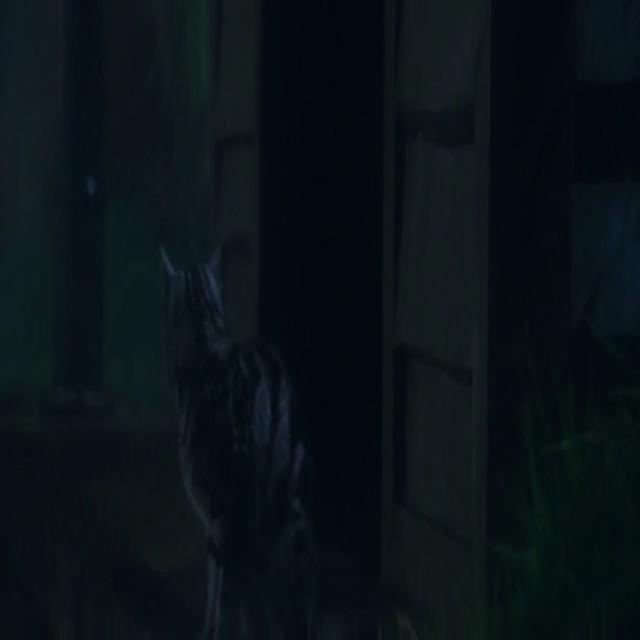Cat: (141, 183, 328, 640)
